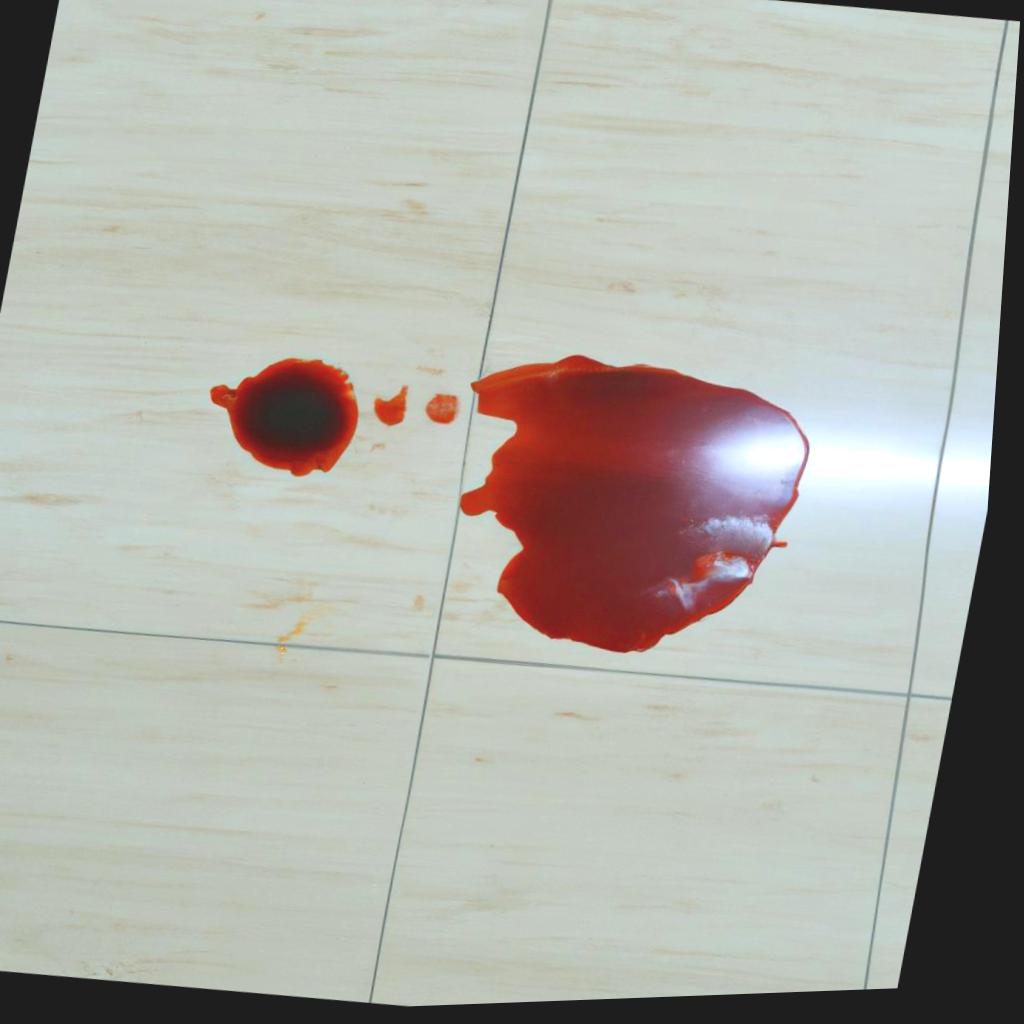Fire: (467, 358, 818, 658), (215, 359, 364, 478), (380, 388, 415, 429), (431, 396, 466, 427)
